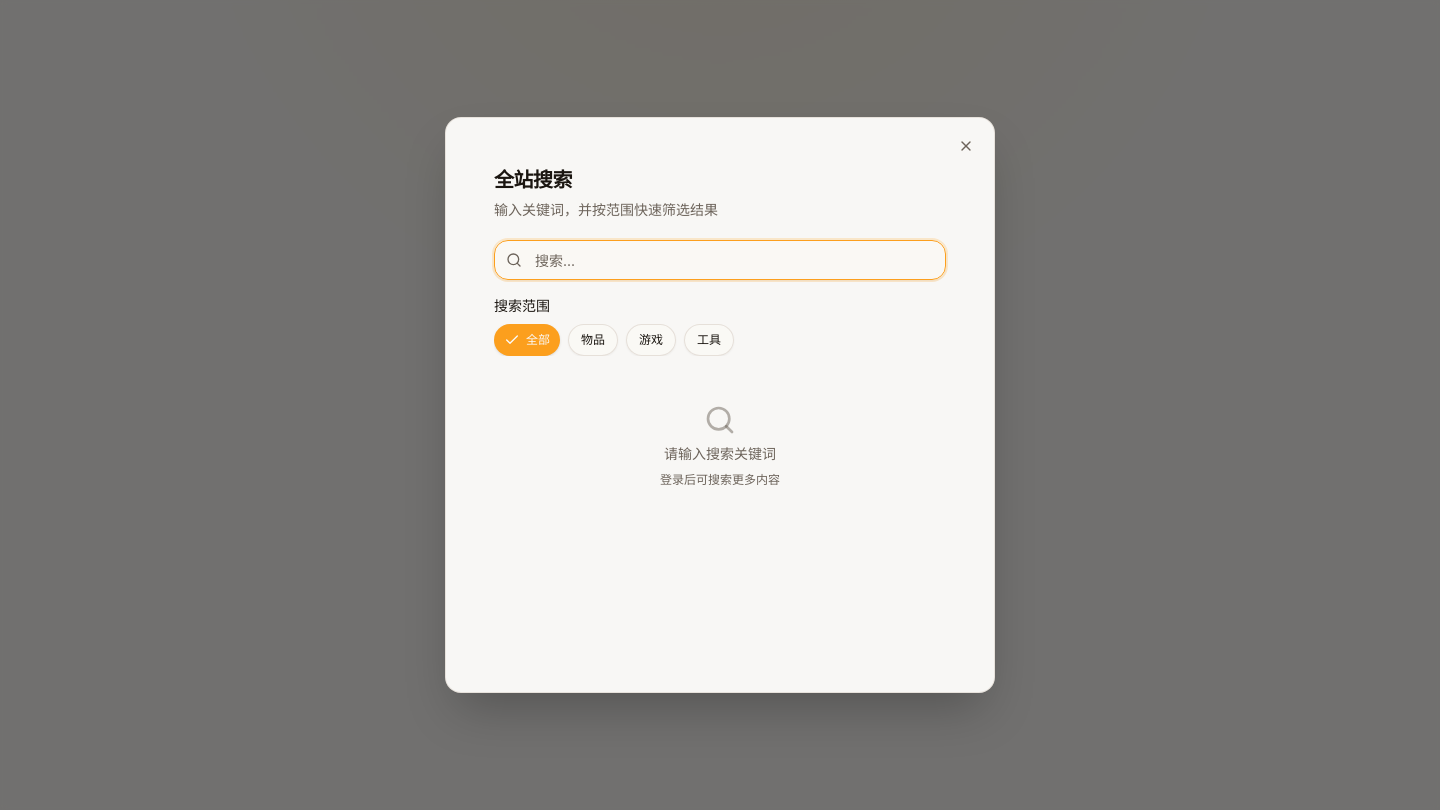
Test case: SearchDialog › search functionality › should perform local search when typing
This screenshot has width=1440, height=810.
In the field with placeholder "搜索...": coordinates (720, 260) [494,240,946,280], type "俄罗斯"
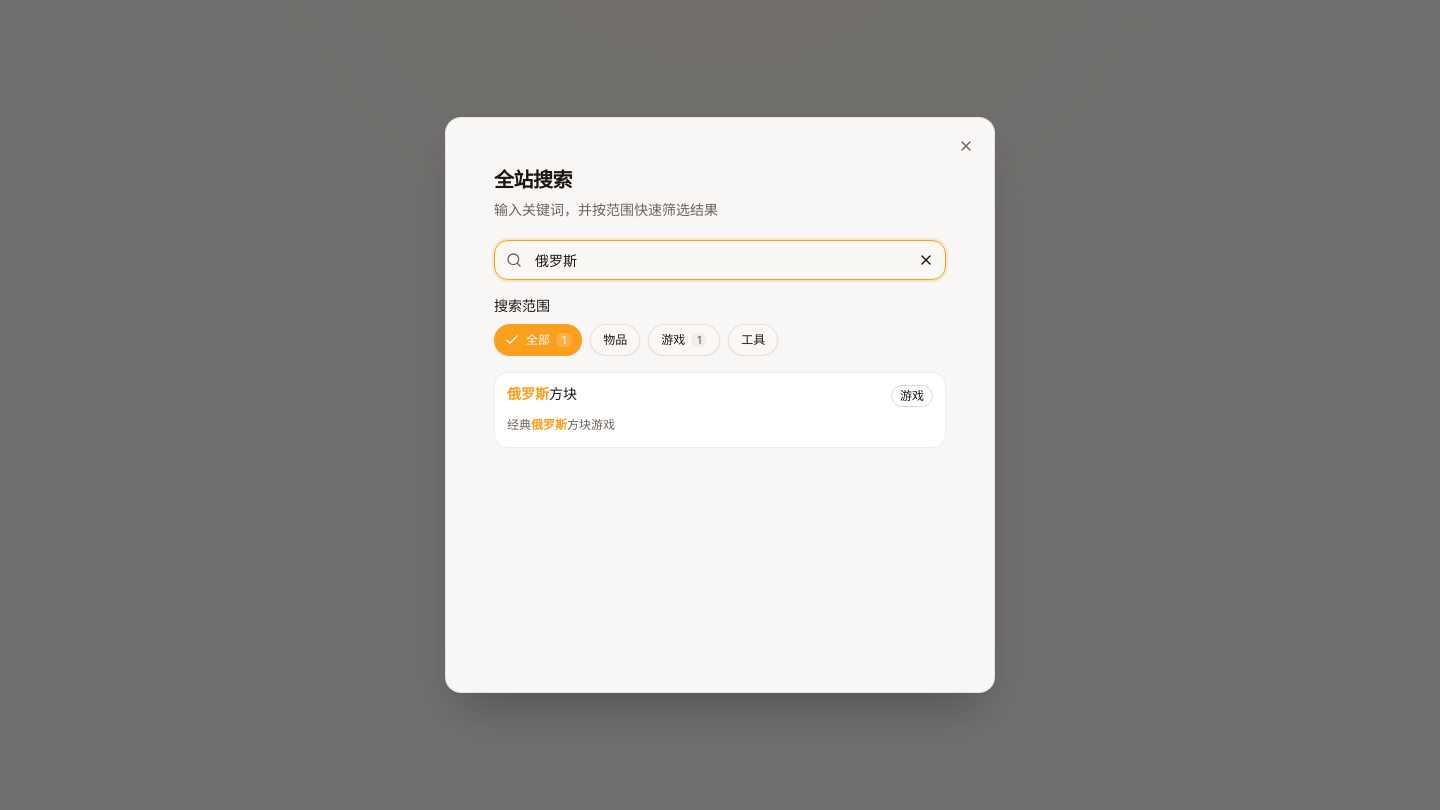
Now the button "俄罗斯方块 游戏 经典俄罗斯方块游戏" is shown, box [494,372,946,448]
